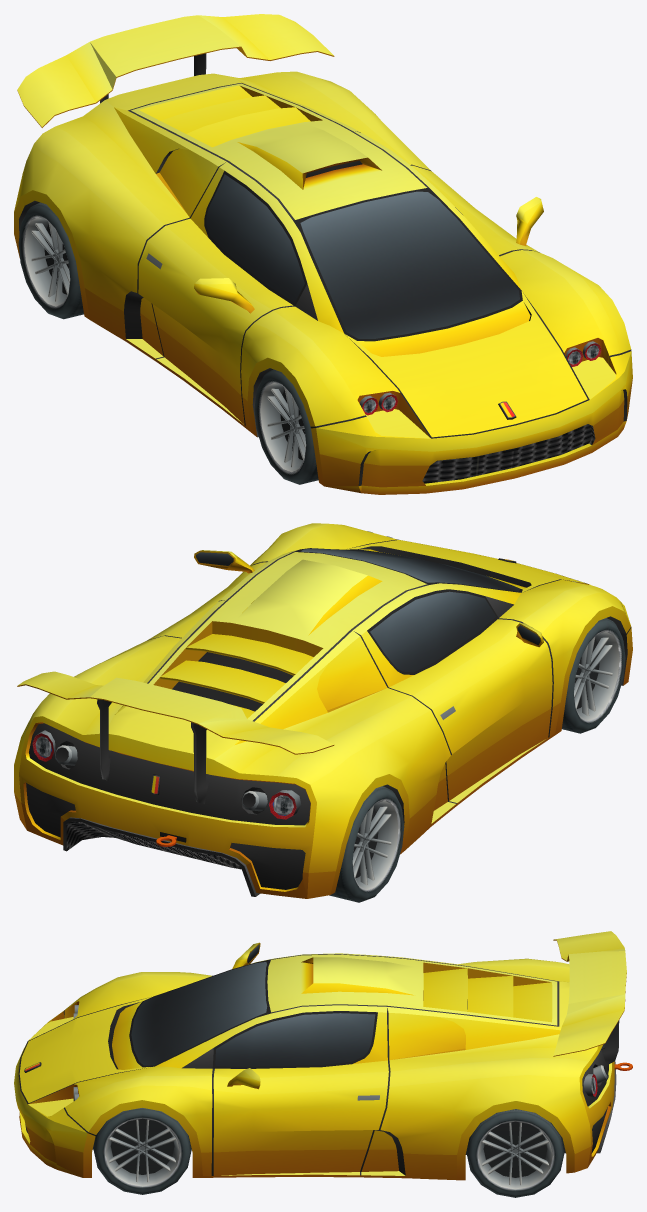
Rendered from VHC0110013.FBX.
The picture shows the model from 3 angles, top to bottom: view 1: azimuth 30°, elevation 25°; view 2: azimuth 150°, elevation 25°; view 3: azimuth 270°, elevation 25°; orthographic projection. The views are drawn at different scales.
Visible parts, largest first — view 1: smVHC0110013; view 2: smVHC0110013; view 3: smVHC0110013.
Boxes of the visible parts, x1,y1,x2,y2 form: smVHC0110013: (14,14,632,494); smVHC0110013: (14,523,632,902); smVHC0110013: (14,931,632,1197).
Bounding box in the file's own units: 1.8 × 1 × 3.39.
Materials: 1 (1 with a texture image).
